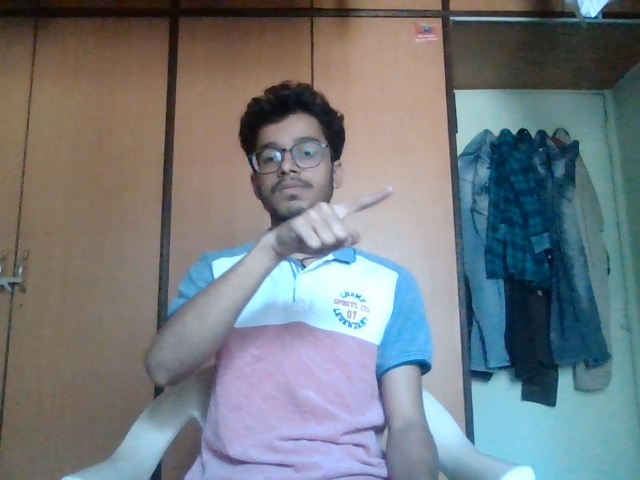you: (270, 181, 412, 280)
